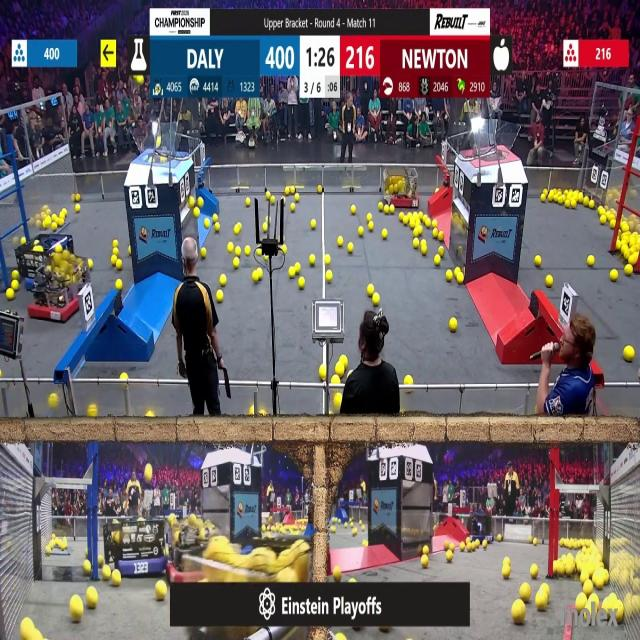ball_airborne: (144, 464, 153, 481), (155, 138, 161, 150)
ball_ground: (70, 597, 83, 621), (514, 601, 526, 624), (22, 619, 34, 640), (88, 589, 99, 609), (520, 585, 531, 603), (536, 593, 546, 611), (158, 583, 168, 601), (576, 594, 585, 610), (625, 347, 635, 361), (564, 564, 574, 578), (112, 570, 121, 585), (48, 393, 57, 408), (584, 582, 594, 595), (334, 566, 342, 581), (337, 362, 346, 375), (102, 566, 110, 580), (450, 318, 458, 331), (90, 406, 98, 419), (319, 364, 326, 378), (83, 560, 90, 574), (501, 566, 509, 578), (531, 565, 538, 578), (544, 276, 552, 287), (588, 255, 596, 266), (626, 266, 634, 277), (456, 274, 464, 285), (631, 253, 639, 264), (6, 288, 13, 300), (421, 556, 428, 568), (371, 293, 378, 305), (446, 272, 454, 282), (406, 376, 414, 386), (584, 199, 592, 209), (553, 562, 559, 575), (610, 271, 617, 282), (216, 290, 223, 301), (534, 255, 541, 266), (234, 257, 241, 268), (11, 280, 18, 291), (255, 270, 262, 281), (220, 275, 226, 287), (330, 376, 339, 384), (416, 224, 422, 236), (388, 205, 396, 214), (115, 280, 122, 290), (235, 223, 242, 233), (115, 261, 122, 271), (98, 556, 105, 566), (188, 198, 195, 208), (298, 278, 304, 289), (366, 284, 372, 295), (325, 272, 331, 283), (348, 243, 354, 254), (288, 268, 294, 279), (447, 552, 453, 563), (310, 254, 316, 265), (616, 240, 622, 251), (146, 412, 154, 420), (244, 246, 251, 255), (413, 239, 420, 248), (11, 271, 18, 280), (434, 255, 440, 265), (236, 246, 242, 256), (324, 254, 330, 264), (227, 243, 233, 253), (564, 200, 570, 210), (502, 557, 509, 565), (198, 200, 205, 208), (466, 542, 473, 550), (294, 265, 300, 274), (382, 231, 388, 240), (311, 219, 317, 228), (214, 222, 220, 231), (425, 218, 431, 227), (609, 219, 615, 228), (570, 200, 576, 209), (83, 549, 89, 558), (546, 192, 552, 201), (423, 544, 428, 554), (432, 230, 437, 240), (193, 208, 198, 218), (440, 232, 445, 242), (316, 185, 323, 192), (440, 248, 446, 256), (362, 539, 368, 547), (600, 216, 606, 224), (384, 206, 390, 214), (112, 240, 118, 248), (540, 193, 546, 201), (402, 216, 408, 224), (445, 540, 451, 548), (204, 219, 210, 227), (271, 198, 277, 206), (341, 355, 347, 363), (284, 187, 290, 195), (339, 238, 344, 247), (351, 206, 356, 215), (358, 226, 363, 235), (111, 255, 116, 264), (290, 204, 295, 213), (264, 222, 269, 231), (255, 248, 261, 255), (120, 374, 126, 381), (19, 238, 25, 245), (202, 248, 206, 258), (75, 205, 80, 213), (379, 203, 384, 211), (460, 542, 465, 550), (249, 409, 254, 417), (366, 213, 371, 221), (213, 215, 218, 223), (90, 260, 94, 270), (267, 191, 272, 199), (422, 244, 426, 253), (350, 576, 356, 582), (294, 193, 299, 200), (112, 248, 117, 255), (532, 537, 537, 544), (368, 222, 372, 230), (244, 200, 248, 208), (76, 192, 80, 200), (497, 534, 501, 542), (282, 245, 286, 253), (432, 220, 436, 228), (484, 540, 488, 548), (353, 528, 357, 535), (0, 369, 4, 376), (456, 268, 460, 275), (129, 247, 133, 254), (266, 254, 270, 260), (362, 526, 366, 532), (344, 523, 348, 528)
goal: (464, 121, 522, 160), (128, 126, 189, 162)
robot_blue: (106, 520, 166, 579), (19, 239, 74, 286), (466, 514, 494, 544)
robot_red: (31, 251, 91, 322), (164, 515, 220, 581), (380, 165, 420, 207)
